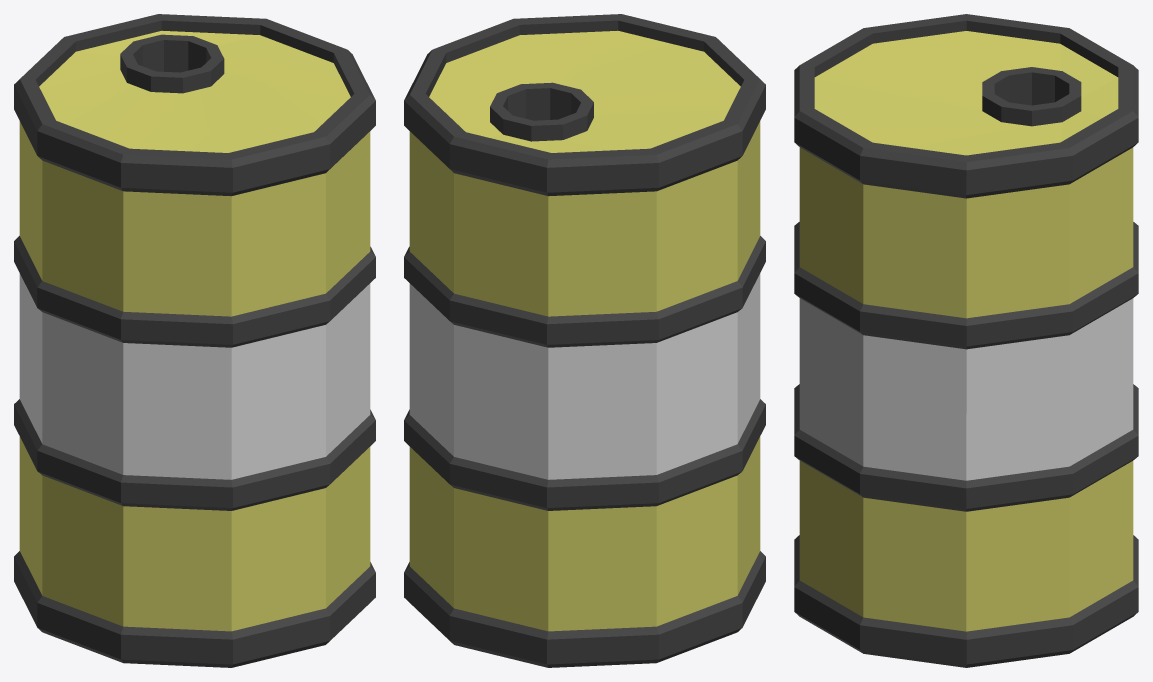
Rendered from Barril solo.fbx.
3 views of the same model, side by side, from view 1: azimuth 30°, elevation 25°; view 2: azimuth 150°, elevation 25°; view 3: azimuth 270°, elevation 25° (orthographic).
Parts seen in each view (by area): view 1: Cylinder002; view 2: Cylinder002; view 3: Cylinder002.
Part boxes in pixels (box(x1,y1,x2,y2)): Cylinder002: box(14, 14, 375, 667); Cylinder002: box(404, 14, 765, 667); Cylinder002: box(794, 14, 1138, 667).
Bounding box in the file's own units: 2435 × 3783 × 2316.
